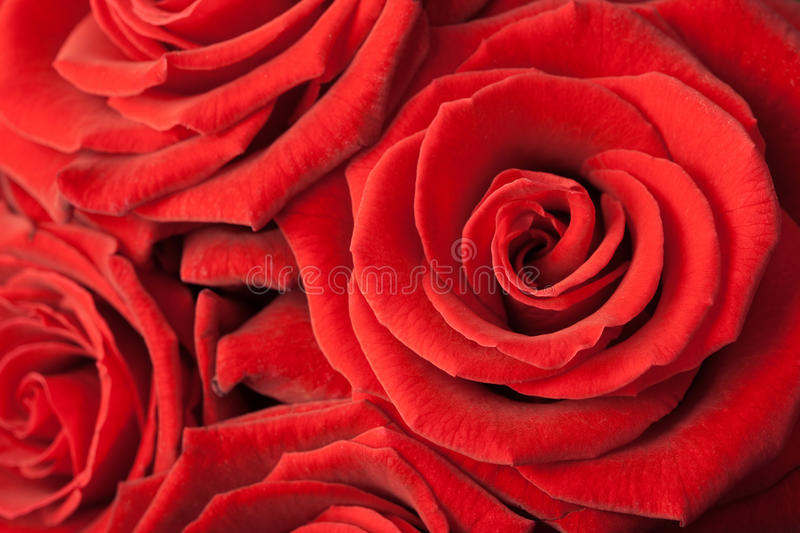RedRose: (289, 1, 797, 527), (0, 0, 432, 232), (0, 198, 195, 533), (125, 396, 521, 533)
